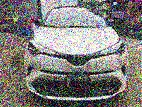car: (20, 4, 129, 104)
